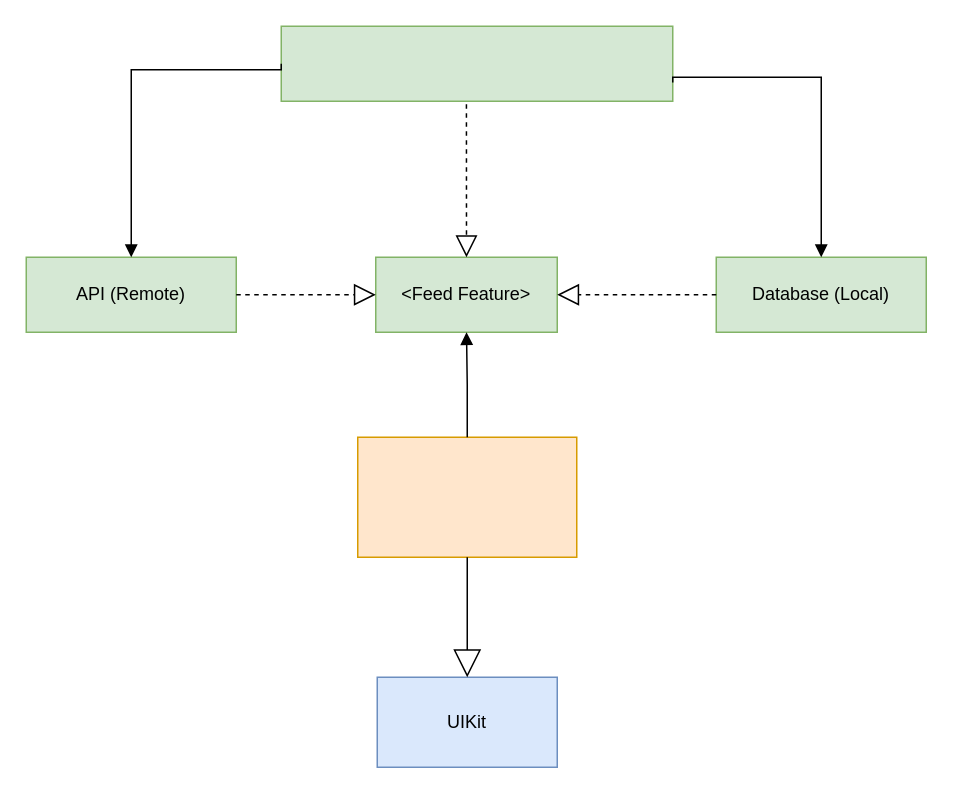
Some shapes in this 953 by 794 pixel diagram are drawn without their labels. The centre of each missing label's shape, as x and y in pixels:
"RemoteWithLocalFallbackFeedService" goes at point 476,63.
"UI" goes at point 466,496.
